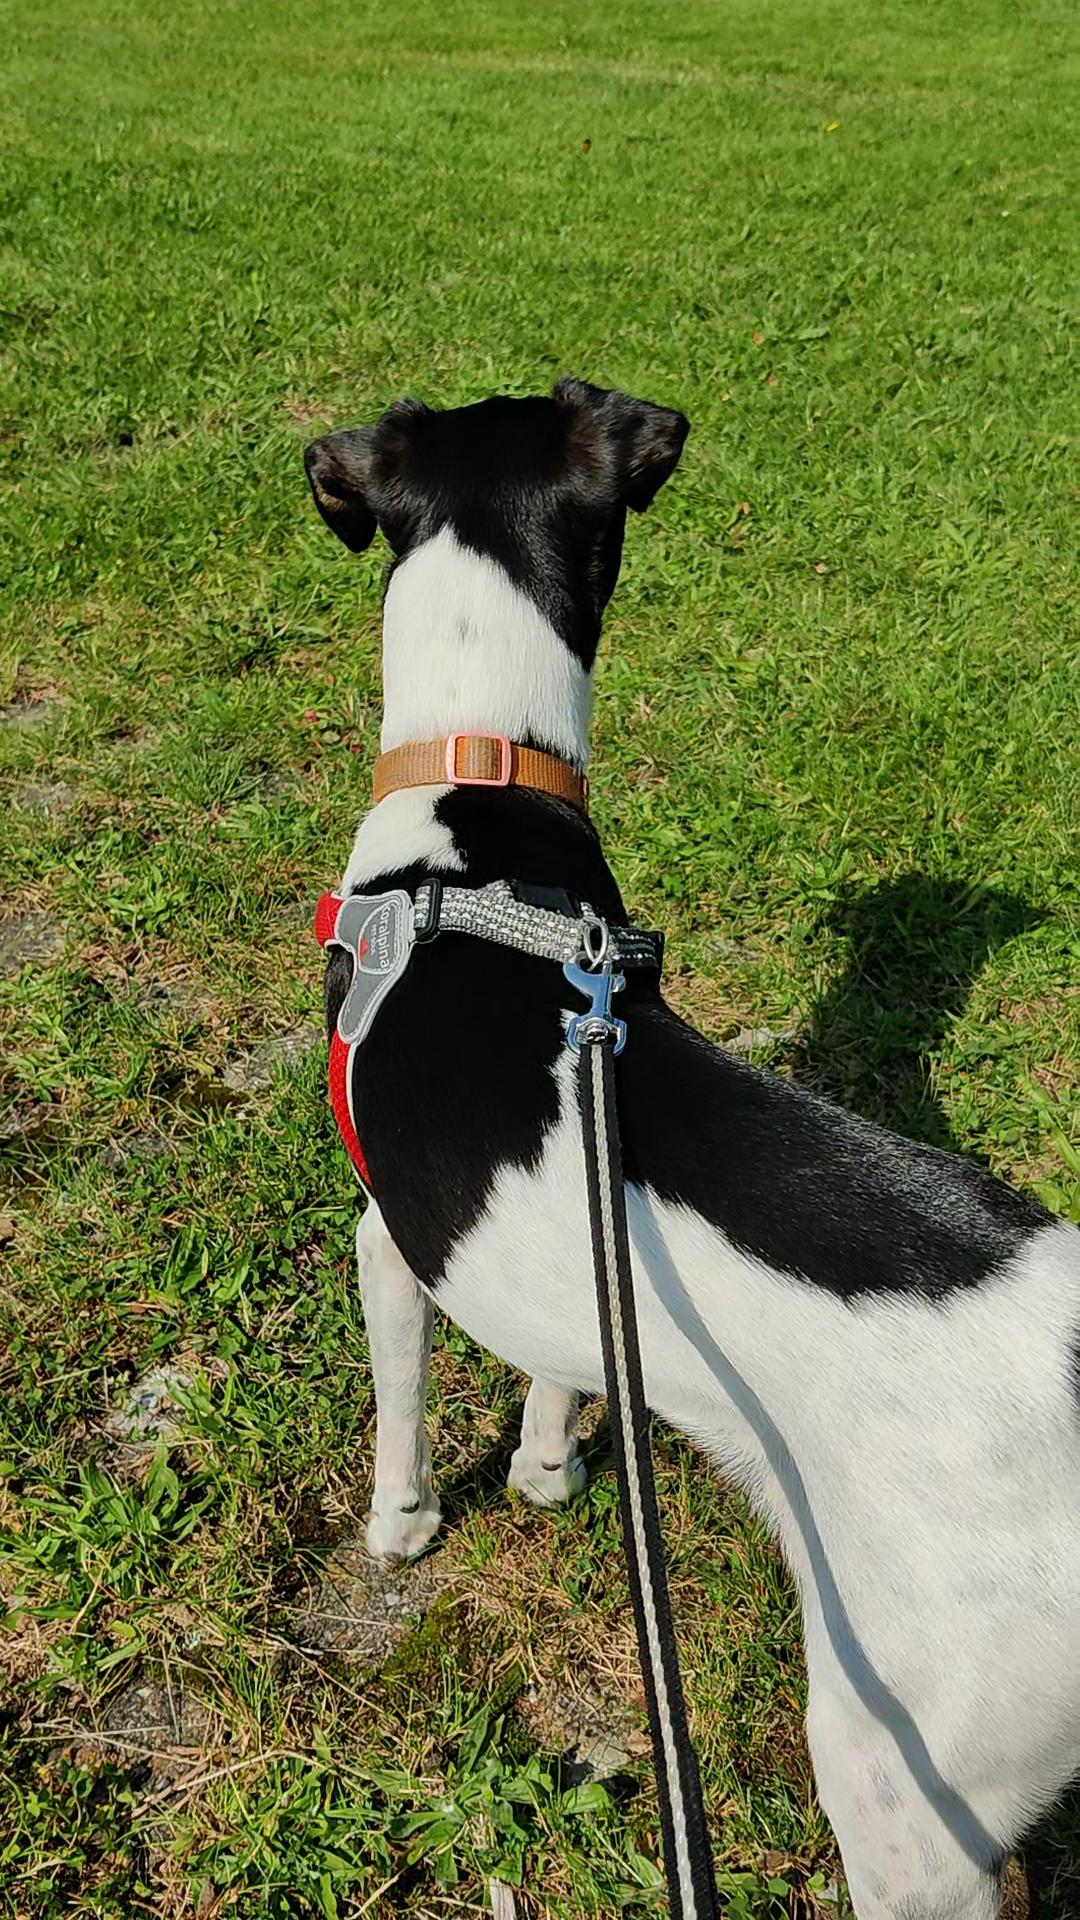Dog: (243, 316, 1079, 1919)
